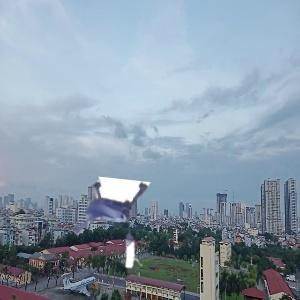drone: (55, 178, 150, 273)
